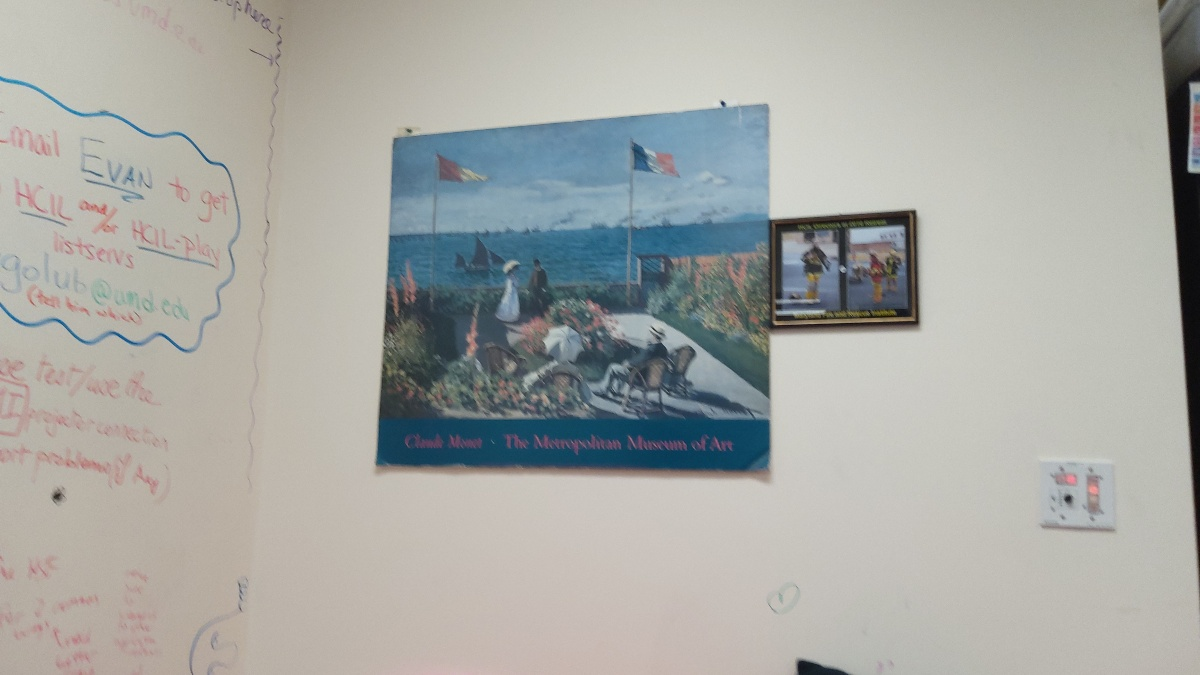poster: (372, 95, 779, 484)
